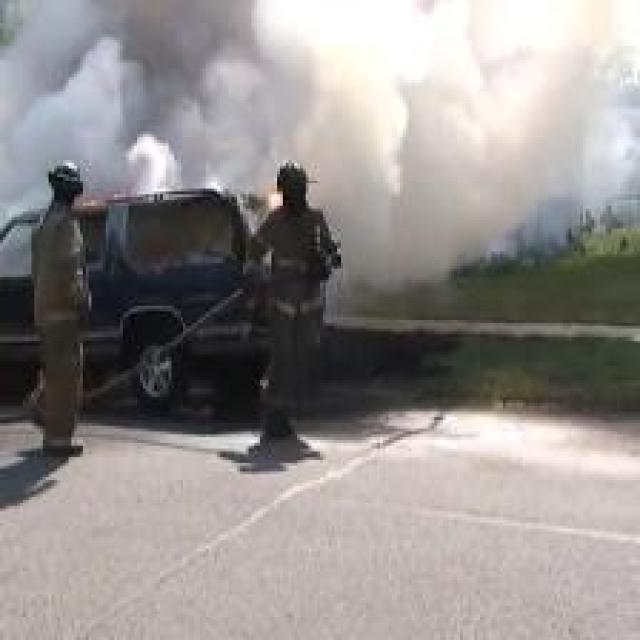smoke: (0, 0, 617, 237)
